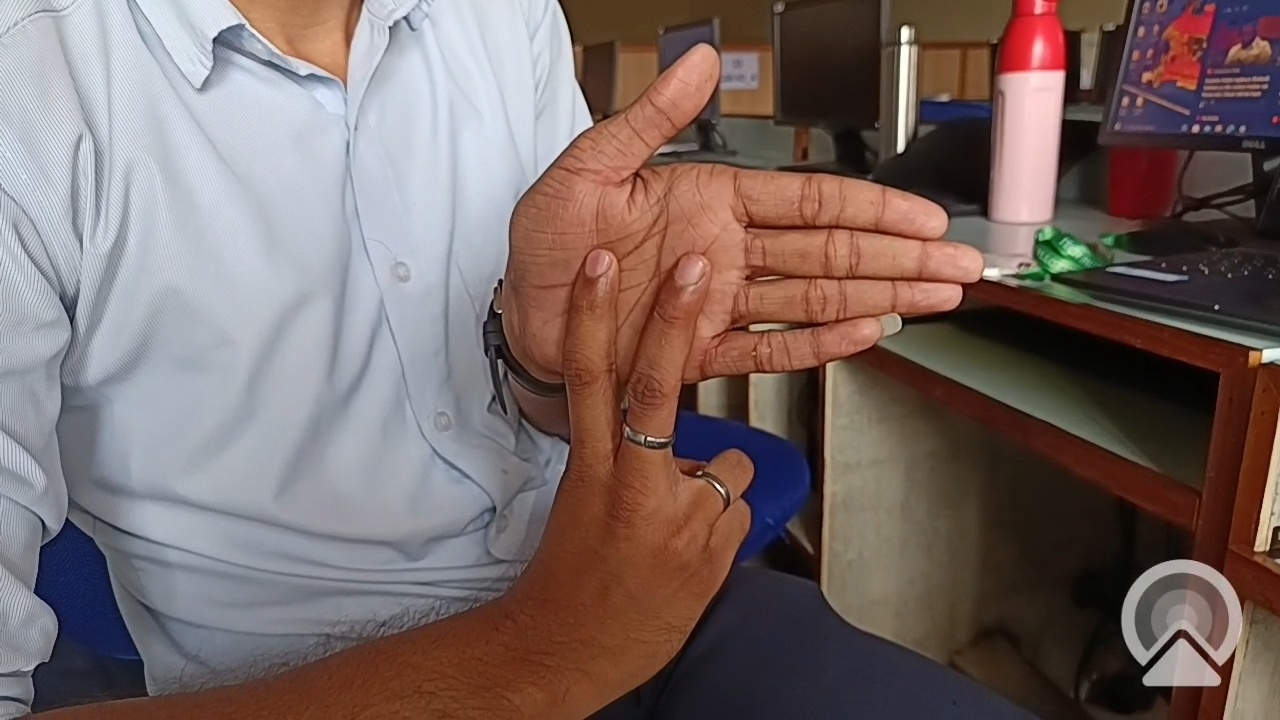N: (449, 21, 986, 697)
